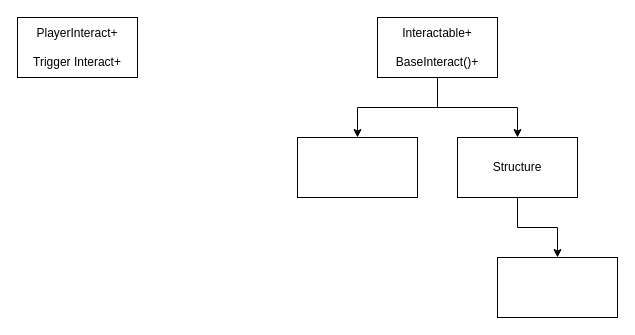
Some shapes in this 635 by 335 pixel diagram are drawn without their labels. The centre of each missing label's shape, as x and y in pixels:
Door Open/Close: the point at 557,287
Item Pickup: the point at 357,167
